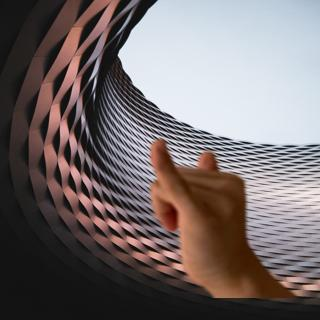HAVE: (144, 136, 275, 290)
